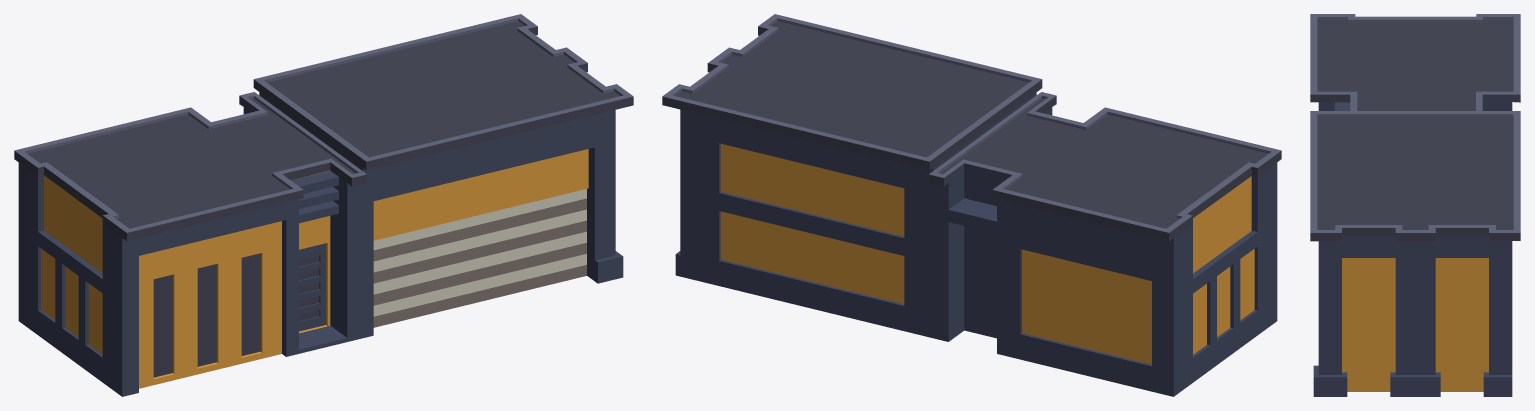
The model's file is building01_color02.fbx.
3 views of the same model, side by side, from view 1: azimuth 30°, elevation 25°; view 2: azimuth 150°, elevation 25°; view 3: azimuth 270°, elevation 25° (orthographic). The views are drawn at different scales.
Visible parts, largest first — view 1: building01_color02; view 2: building01_color02; view 3: building01_color02.
Part boxes in pixels (<box>): building01_color02: <box>14,14,633,396</box>; building01_color02: <box>662,14,1281,396</box>; building01_color02: <box>1310,14,1520,396</box>.
Size of the model in its own units: 2117 by 719 by 815.
